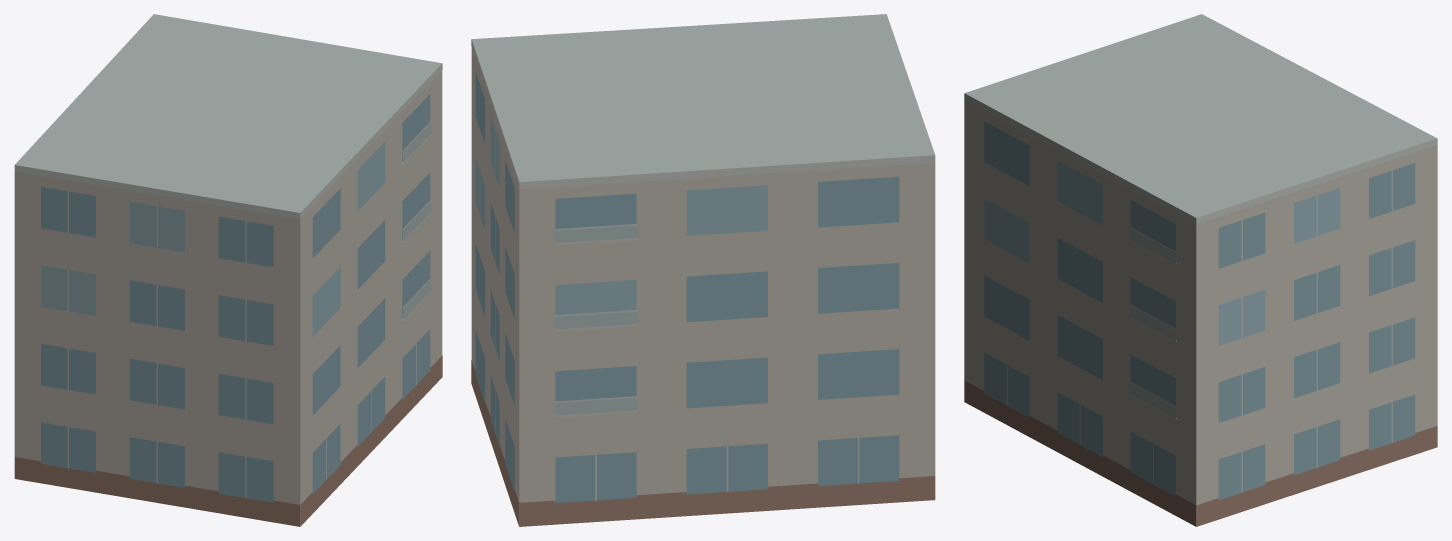
The model's file is survey-upis-32693466.glb.
The picture shows the model from 3 angles, left to right: view 1: azimuth 30°, elevation 25°; view 2: azimuth 150°, elevation 25°; view 3: azimuth 270°, elevation 25°; orthographic projection. The views are drawn at different scales.
Visible parts, largest first — view 1: survey-upis-32693466.tmp; view 2: survey-upis-32693466.tmp; view 3: survey-upis-32693466.tmp.
Boxes of the visible parts, left/top/right/bottom form: survey-upis-32693466.tmp: left=14, top=14, right=442, bottom=526; survey-upis-32693466.tmp: left=471, top=14, right=935, bottom=526; survey-upis-32693466.tmp: left=964, top=14, right=1437, bottom=526.
Size of the model in its own units: 16.73 by 11.8 by 16.39.
